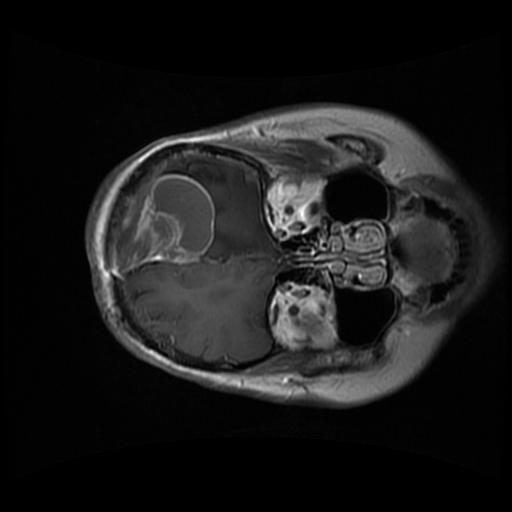glioma: (116, 173, 215, 273)
